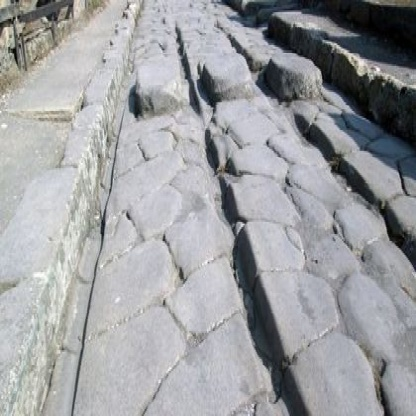pothole: (267, 21, 416, 200)
